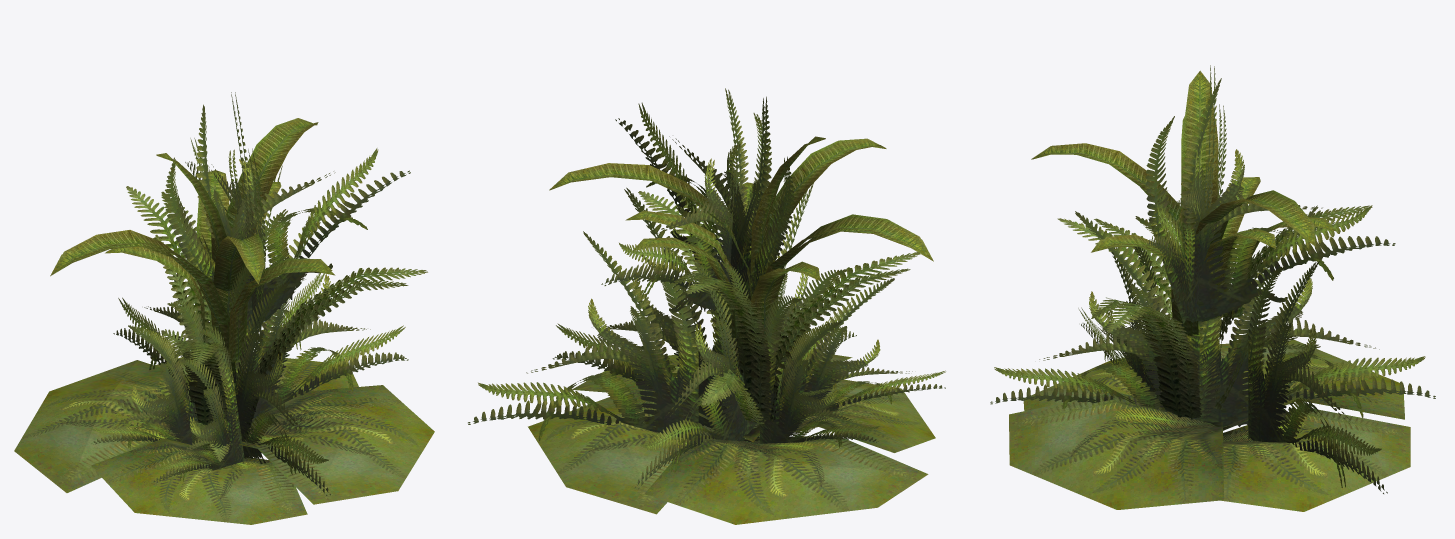
File: frst_fern_olive_tall_l0.fbx
3 views of the same model, side by side, from view 1: azimuth 30°, elevation 25°; view 2: azimuth 150°, elevation 25°; view 3: azimuth 270°, elevation 25° (orthographic). The views are drawn at different scales.
Parts seen in each view (by area): view 1: mesh_node; view 2: mesh_node; view 3: mesh_node.
Part boxes in pixels (x1=…): mesh_node: x1=14, y1=92, x2=434, y2=524; mesh_node: x1=468, y1=88, x2=945, y2=524; mesh_node: x1=990, y1=65, x2=1435, y2=511.
Size of the model in its own units: 3.66 by 3.98 by 3.69.
